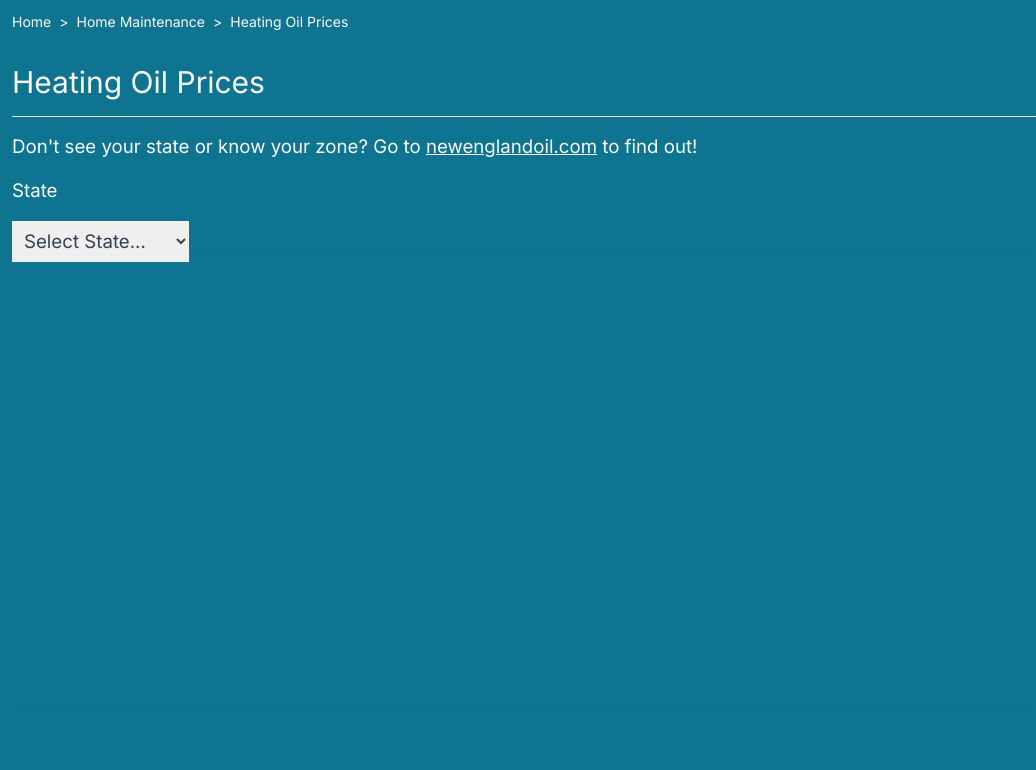
OilPrices › renders when loading MA zone 1
Expected: the text "State" is shown, [12,179,58,202]
Select "Massachusetts" in the dropdown at (100, 242), box [12,221,189,262]
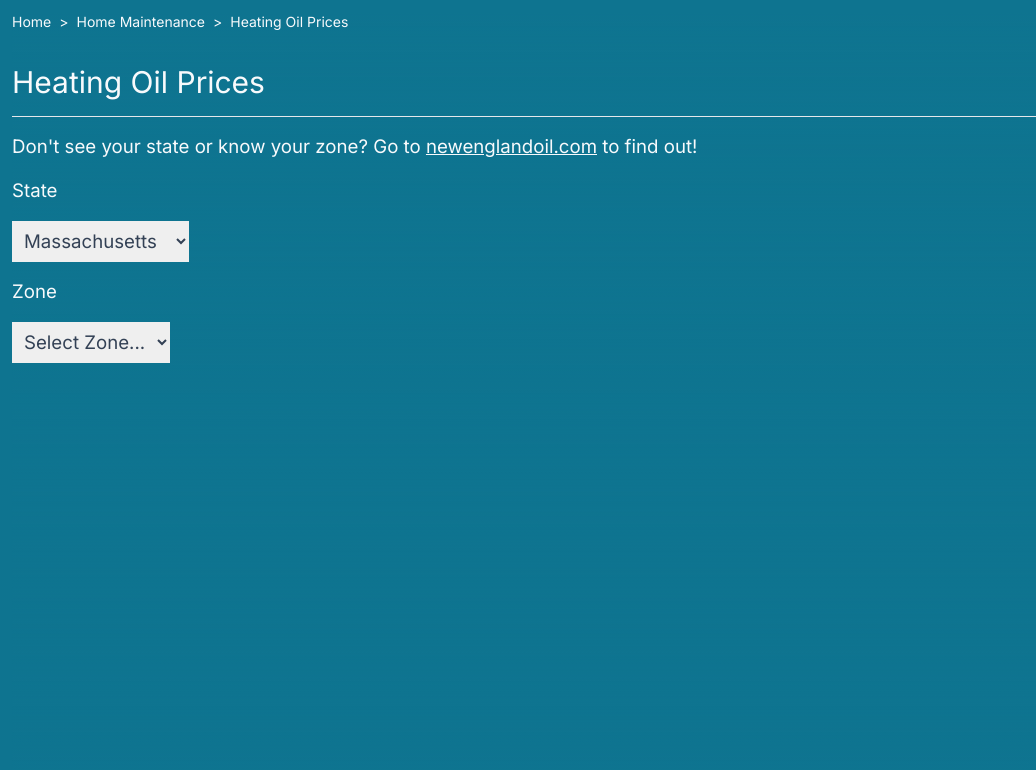
Now the text "Zone" is shown, box [12,280,57,303]
Select "1" in the dropdown labelled "Zone" at (91, 342), box [12,322,170,363]
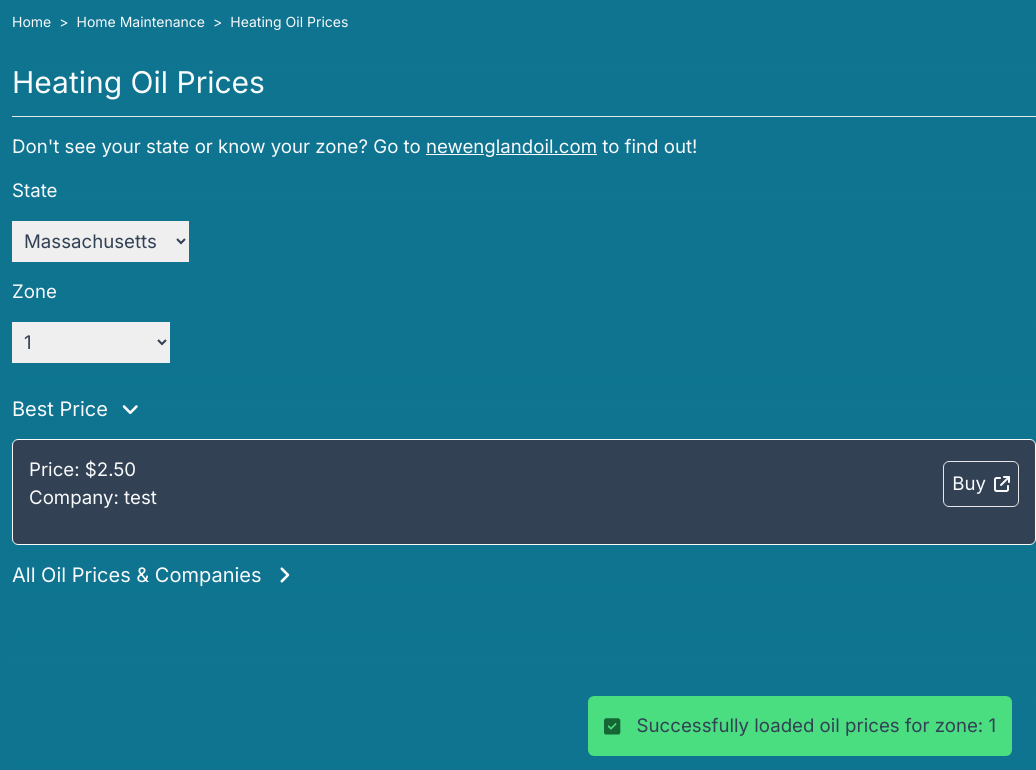
Now the text "Successfully loaded oil prices for zone: 1" is shown, box [588,696,1012,756]
